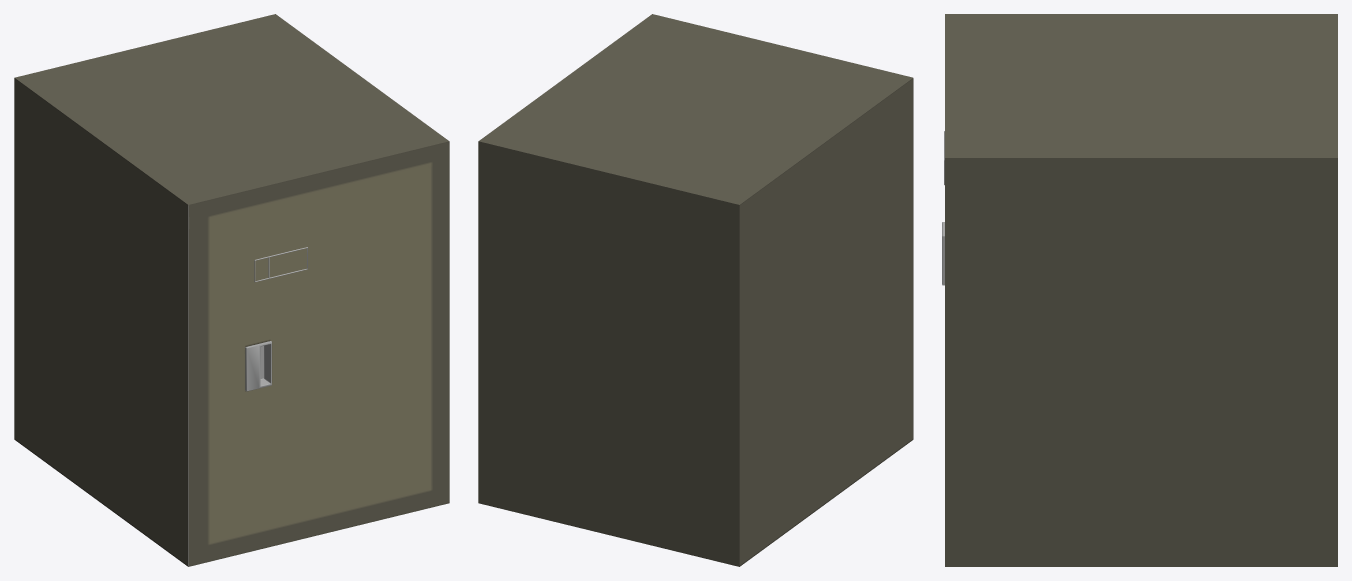
The model's file is cabinet.fbx.
The picture shows the model from 3 angles, left to right: view 1: azimuth 30°, elevation 25°; view 2: azimuth 150°, elevation 25°; view 3: azimuth 270°, elevation 25°; orthographic projection. The views are drawn at different scales.
Parts seen in each view (by area): view 1: body, handle; view 2: body; view 3: body.
Part boxes in pixels (<box>): body: <box>14,14,449,566</box>; handle: <box>245,341,271,391</box>; body: <box>478,14,913,566</box>; body: <box>945,14,1337,566</box>.
Bounding box in the file's own units: 300 × 397 × 348.
